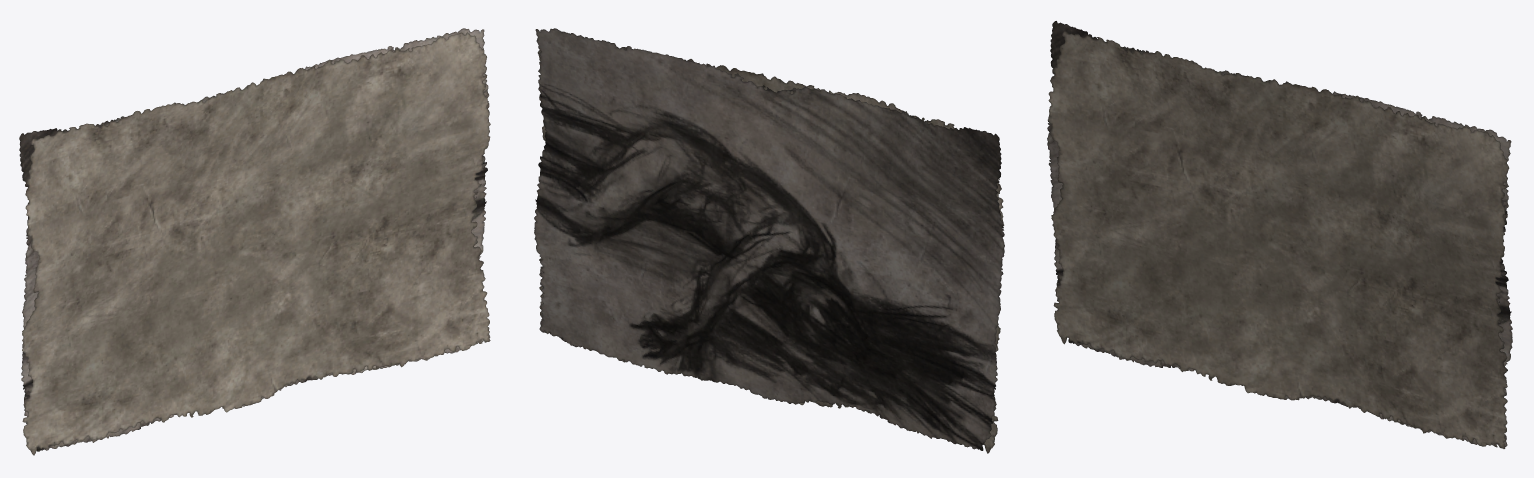
Rendered from strange_sketch01.dae.
The picture shows the model from 3 angles, left to right: view 1: azimuth 30°, elevation 25°; view 2: azimuth 150°, elevation 25°; view 3: azimuth 330°, elevation 25°; orthographic projection.
Visible parts, largest first — view 1: strange_sketch01; view 2: strange_sketch01; view 3: strange_sketch01.
Boxes of the visible parts, x1,y1,x2,y2 form: strange_sketch01: [19, 28, 490, 455]; strange_sketch01: [534, 28, 1004, 453]; strange_sketch01: [1047, 21, 1512, 448].
Bounding box in the file's own units: 1.5 × 1 × 0.0417.
